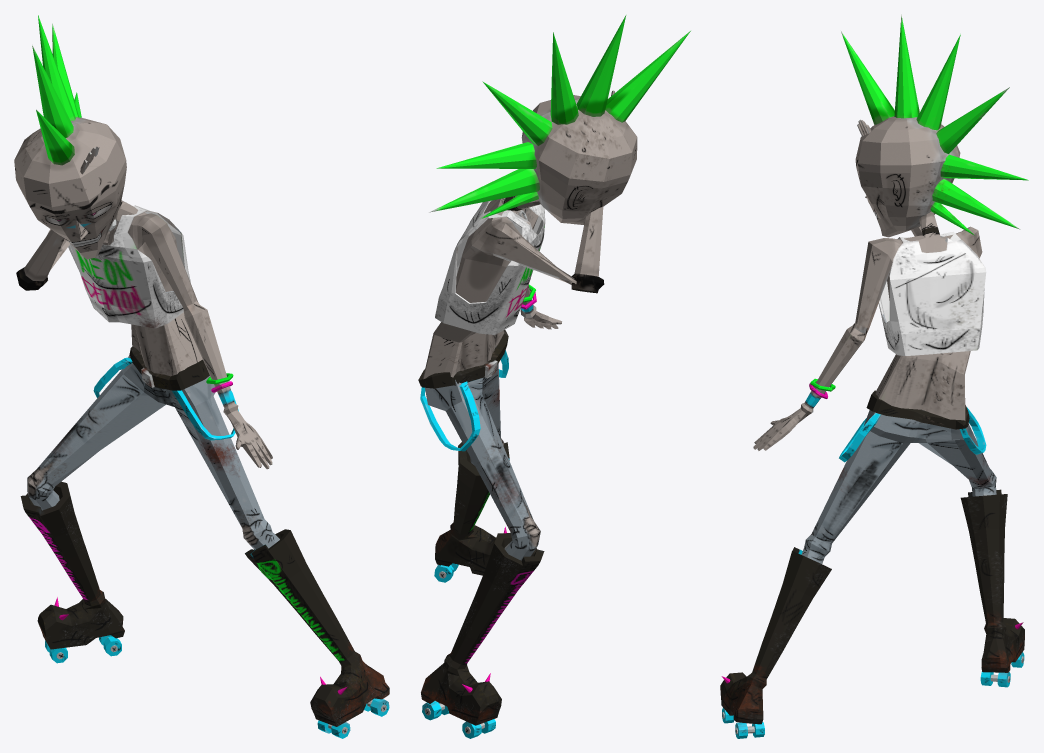
Rendered from punkAnimation_000065.obj.
3 renders of one model, left to right at view 1: azimuth 30°, elevation 25°; view 2: azimuth 150°, elevation 25°; view 3: azimuth 270°, elevation 25°, orthographic. The views are drawn at different scales.
Parts seen in each view (by area): view 1: Cube.004_Cube.003; view 2: Cube.004_Cube.003; view 3: Cube.004_Cube.003.
Boxes of the visible parts, x1,y1,x2,y2 form: Cube.004_Cube.003: (14,15,389,738); Cube.004_Cube.003: (418,15,690,738); Cube.004_Cube.003: (720,14,1028,738).
Size of the model in its own units: 3.1 by 6.72 by 3.06.
